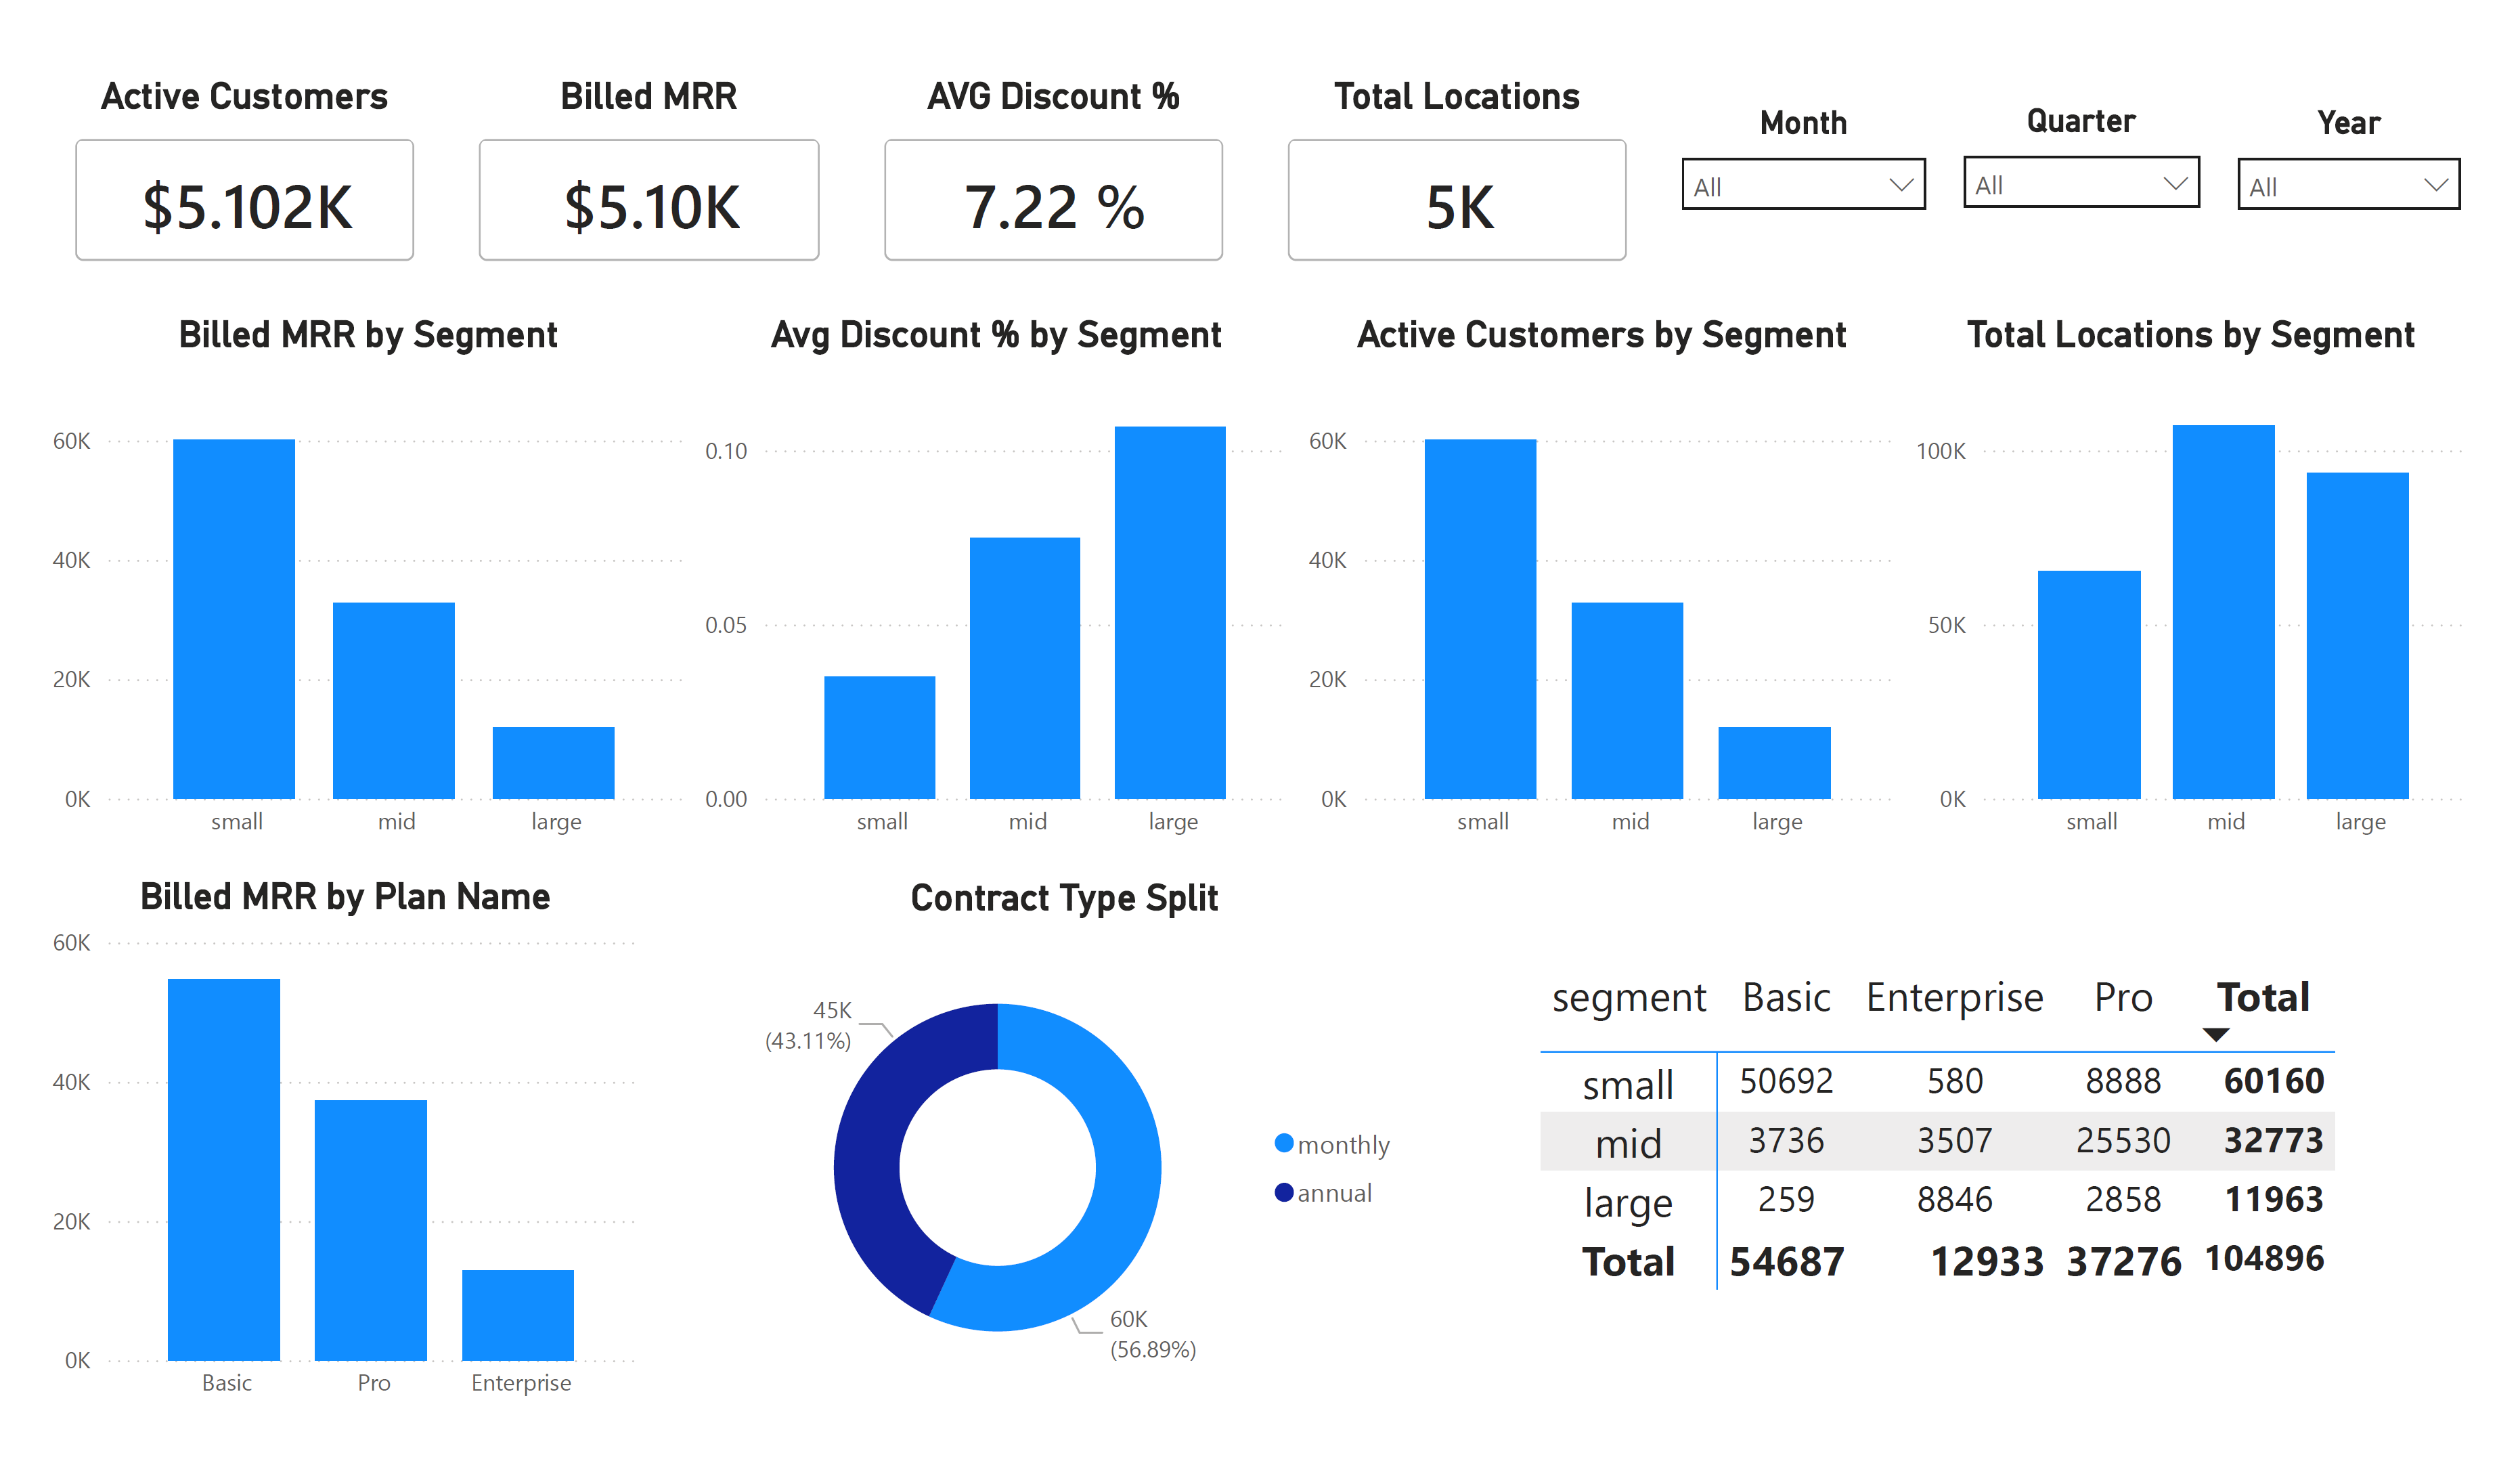

This screenshot's page, from the dashboard's own definition file:
{"tool":"powerbi","page":{"name":"Monetization Mix","canvas":[1280,720],"ordinal":1},"visuals":[{"type":"cardVisual","title":"AVG Discount %","fields":{"Data":["00_Measures.P2 KPI Avg Discount % Card"]},"box":[424.6,0,212.3,130.2],"z":0},{"type":"slicer","title":"Month","fields":{"Values":["mart dim_date.month_num"]},"box":[850.7,24.9,147.9,81.1],"z":1000},{"type":"slicer","title":"Quarter","fields":{"Values":["mart dim_date.quarter"]},"box":[998.6,23.6,144,82.5],"z":2000},{"type":"slicer","title":"Year","fields":{"Values":["mart dim_date.year"]},"box":[1142.6,24.9,137.4,82.5],"z":3000},{"type":"cardVisual","title":"Billed MRR","fields":{"Data":["00_Measures.P2 KPI Billed MRR Card"]},"box":[212.3,0,212.3,130.2],"z":4000},{"type":"cardVisual","title":"Total Locations","fields":{"Data":["00_Measures.P2 KPI Billed MRR Card"]},"box":[637,0,212.3,130.2],"z":5000},{"type":"cardVisual","title":"Active Customers","fields":{"Data":["00_Measures.P2 PKI Active Customers Card"]},"box":[0,0,212.3,130.2],"z":6000},{"type":"clusteredColumnChart","title":"Billed MRR by Segment","fields":{"Y":["00_Measures.P2 Billed MRR"],"Category":["mart vw_monthly_monetization_mix.segment"]},"box":[0,129.6,341.6,295.8],"z":7000},{"type":"clusteredColumnChart","title":"Active Customers by Segment","fields":{"Category":["mart vw_monthly_monetization_mix.segment"],"Y":["00_Measures.P2 Active Customers"]},"box":[659.6,129.6,318,295.8],"z":8000},{"type":"clusteredColumnChart","title":"Avg Discount % by Segment","fields":{"Y":["00_Measures.P2 KPI Avg Discount % Card"],"Category":["mart vw_monthly_monetization_mix.segment"]},"box":[341.6,129.6,318,295.8],"z":9000},{"type":"clusteredColumnChart","title":"Total Locations by Segment","fields":{"Y":["00_Measures.P2 Total Locations"],"Category":["mart vw_monthly_monetization_mix.segment"]},"box":[977.7,129.6,301,295.8],"z":10000},{"type":"clusteredColumnChart","title":"Billed MRR by Plan Name","fields":{"Y":["00_Measures.P2 Billed MRR"],"Category":["mart vw_monthly_monetization_mix.plan_name"]},"box":[0,425.4,318,294.5],"z":11000},{"type":"donutChart","title":"Contract Type Split","fields":{"Category":["mart vw_monthly_monetization_mix.contract_type"],"Y":["00_Measures.P2 Billed MRR"]},"box":[352.1,425.9,370.2,293.9],"z":12000},{"type":"pivotTable","fields":{"Rows":["mart vw_monthly_monetization_mix.segment"],"Columns":["mart vw_monthly_monetization_mix.plan_name"],"Values":["00_Measures.P2 Billed MRR"]},"box":[781.9,477.7,432.4,189],"z":13000}]}

Visuals, with their boxes in screenshot pixels (x1, y1, x2, y2), scaled from the page's 1280x720 canvas onto the 2520x1459 screenshot:
"AVG Discount %" cardVisual: x1=836, y1=0, x2=1254, y2=264
"Month" slicer: x1=1675, y1=51, x2=1966, y2=215
"Quarter" slicer: x1=1966, y1=48, x2=2249, y2=215
"Year" slicer: x1=2249, y1=51, x2=2519, y2=217
"Billed MRR" cardVisual: x1=418, y1=0, x2=836, y2=264
"Total Locations" cardVisual: x1=1254, y1=0, x2=1672, y2=264
"Active Customers" cardVisual: x1=0, y1=0, x2=418, y2=264
"Billed MRR by Segment" clusteredColumnChart: x1=0, y1=263, x2=673, y2=862
"Active Customers by Segment" clusteredColumnChart: x1=1299, y1=263, x2=1924, y2=862
"Avg Discount % by Segment" clusteredColumnChart: x1=673, y1=263, x2=1299, y2=862
"Total Locations by Segment" clusteredColumnChart: x1=1925, y1=263, x2=2517, y2=862
"Billed MRR by Plan Name" clusteredColumnChart: x1=0, y1=862, x2=626, y2=1458
"Contract Type Split" donutChart: x1=693, y1=863, x2=1422, y2=1458
pivotTable - mart vw_monthly_monetization_mix.segment x mart vw_monthly_monetization_mix.plan_name: x1=1539, y1=968, x2=2391, y2=1351
